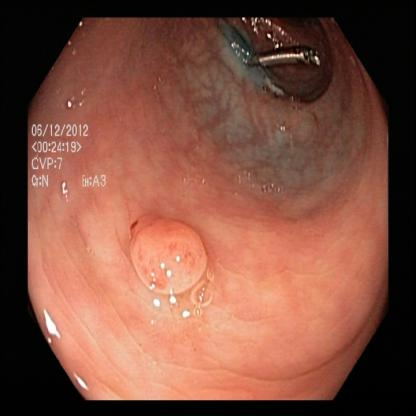Labels: (29, 112, 108, 198)
Polyps: (112, 205, 223, 309)
